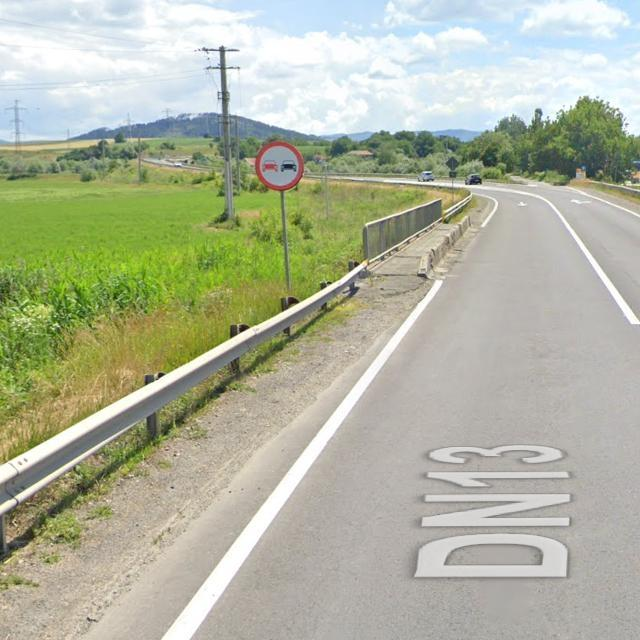forb_overtake: (255, 142, 304, 192)
